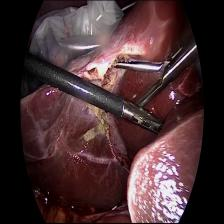Grasper: (112, 48, 185, 103), (123, 104, 167, 138)
Specimen Bag: (34, 0, 127, 59)
